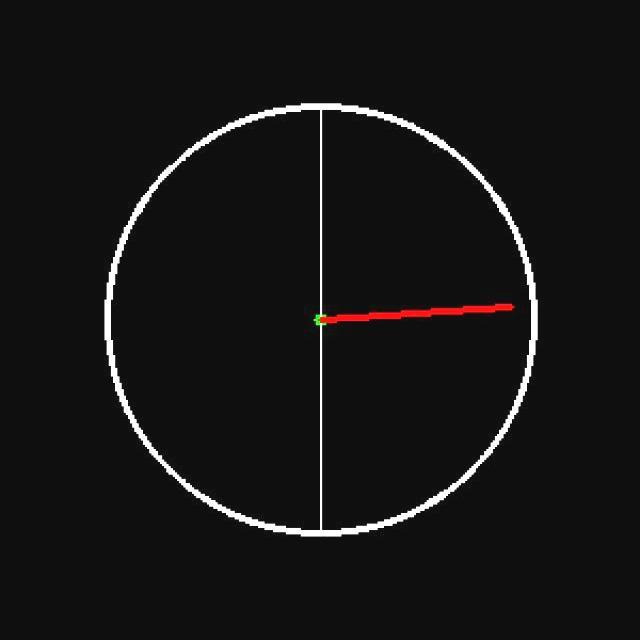Needle_Tip: (477, 279, 530, 329)
Needle_base: (295, 301, 348, 340)
